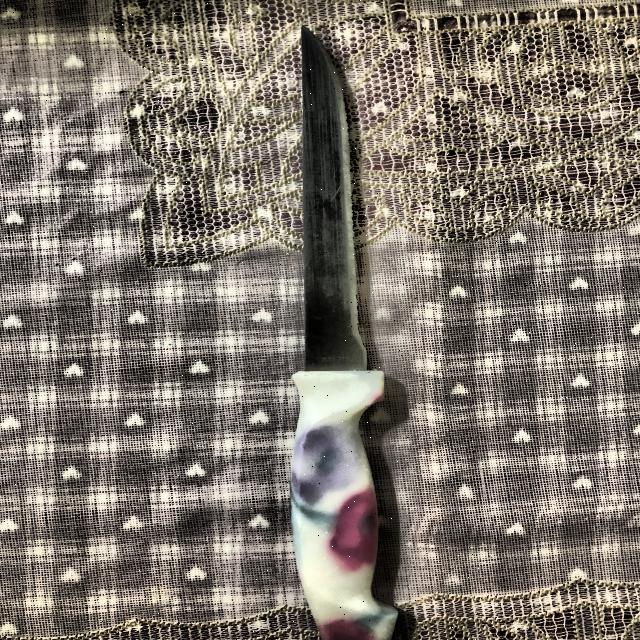knife: (280, 26, 400, 640)
